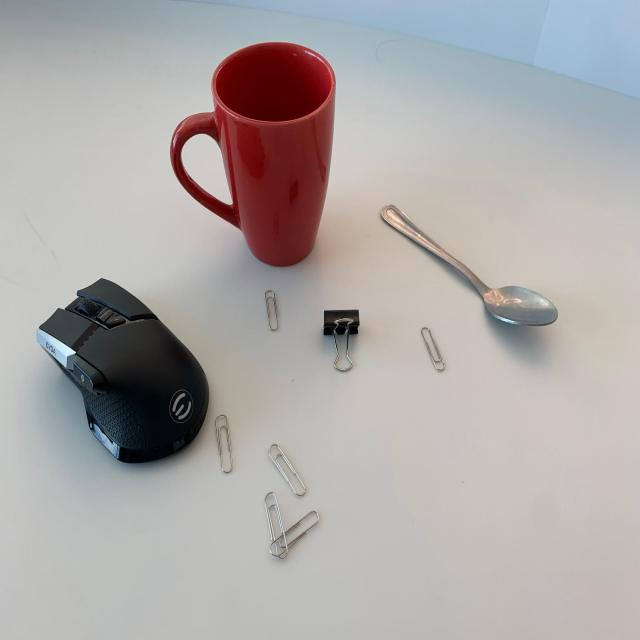Cup: (157, 23, 354, 270)
Mouse: (20, 276, 214, 486)
Spoon: (372, 193, 564, 339)
